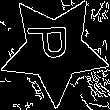P_E: (30, 31, 79, 69)
